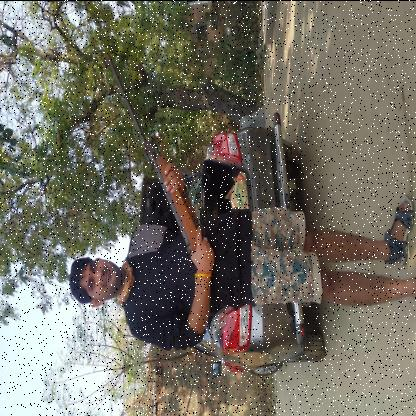rifle: (103, 46, 214, 268)
